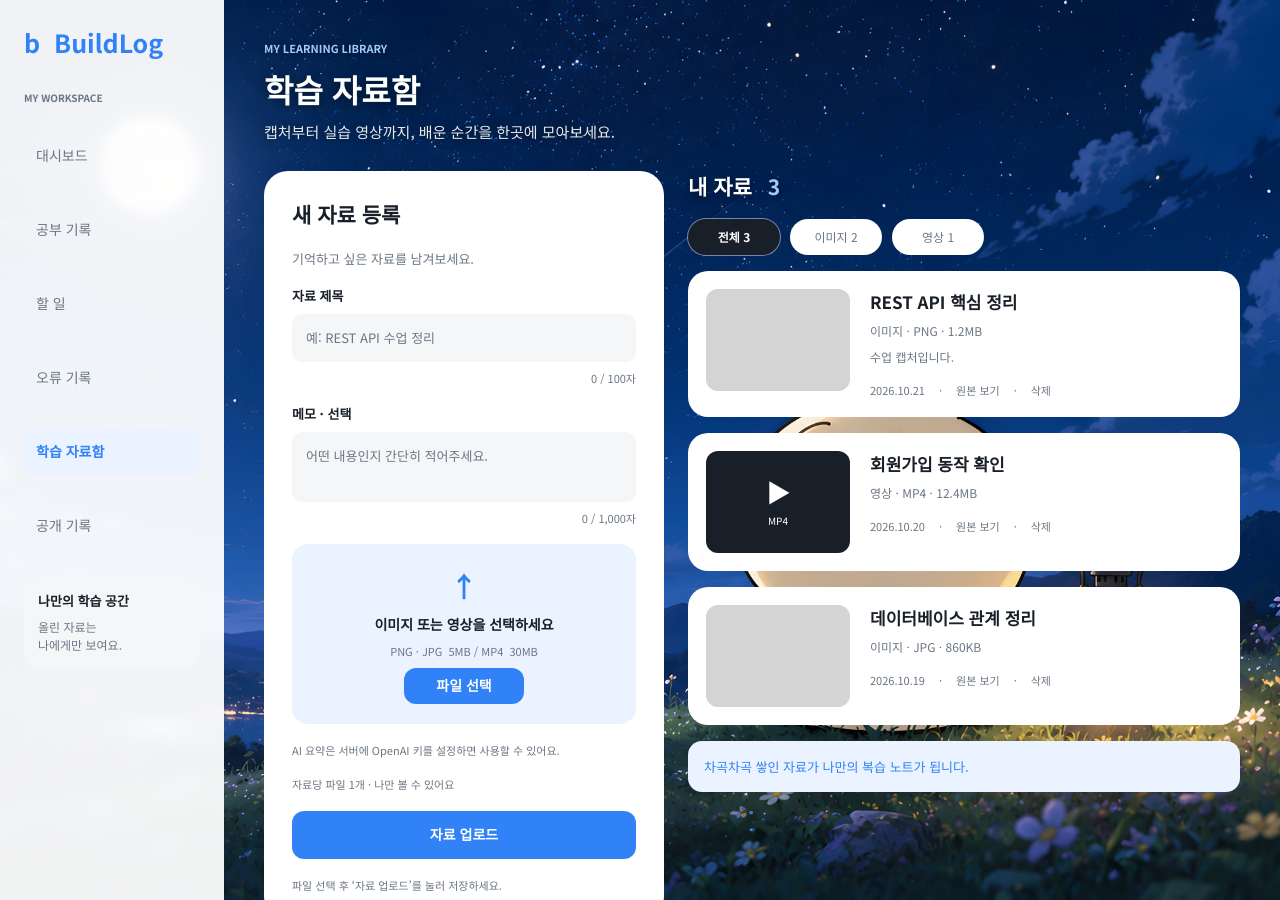
Scenario: 학습 자료함 화면 › 종류 필터로 걸러 내도 숫자는 전체 기준으로 유지된다
Expected: the heading "학습 자료함" is shown, top-left (264, 66), bottom-right (420, 112)
Expected: the heading "REST API 핵심 정리" is shown, top-left (870, 288), bottom-right (1018, 314)
Click the button "영상 1".
click(938, 236)  # box top-left (892, 218), bottom-right (984, 254)
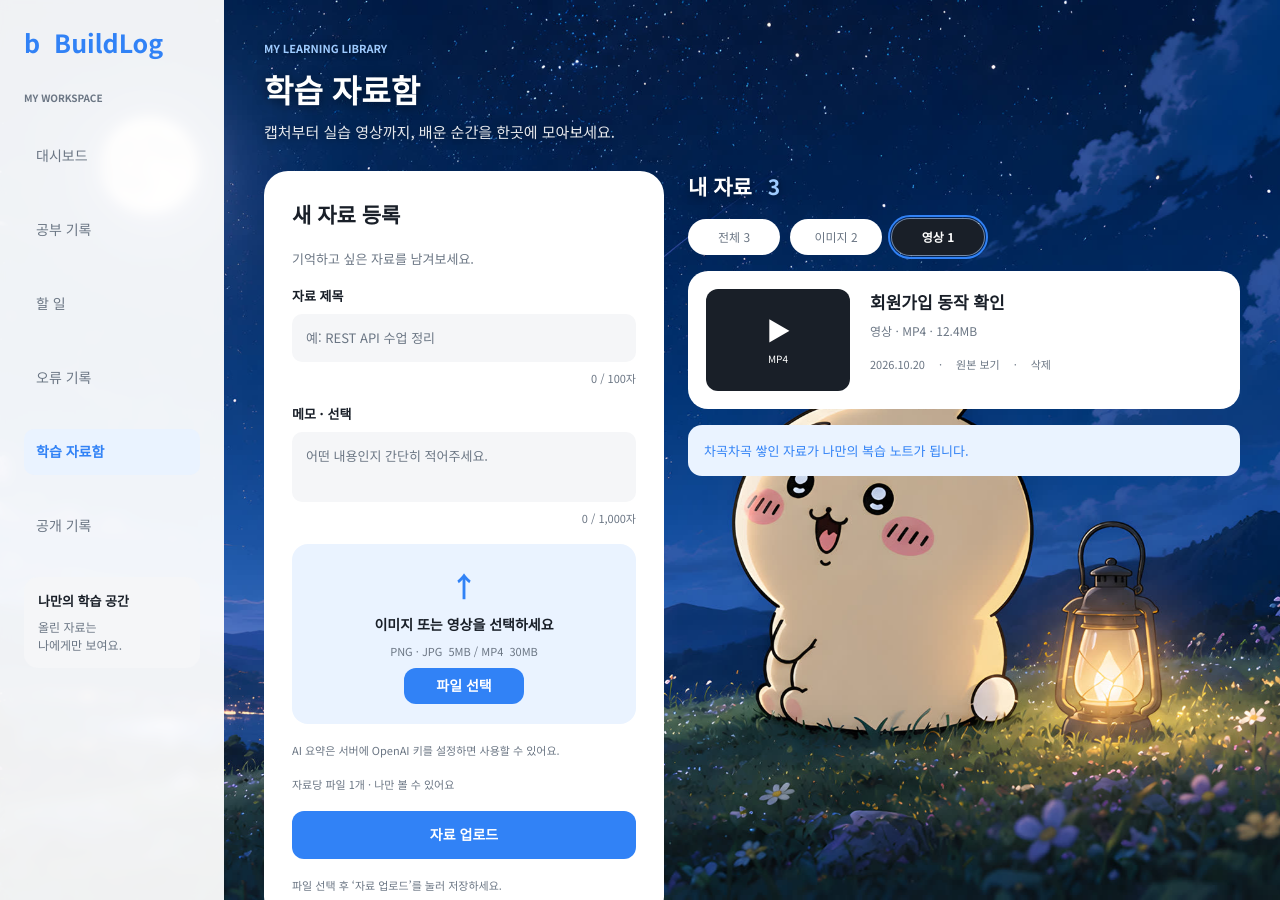
Expected: the heading "회원가입 동작 확인" is shown, top-left (870, 288), bottom-right (1005, 314)
Now the heading "REST API 핵심 정리" is gone
Click the button "이미지 2".
click(836, 236)  # box top-left (790, 218), bottom-right (882, 254)
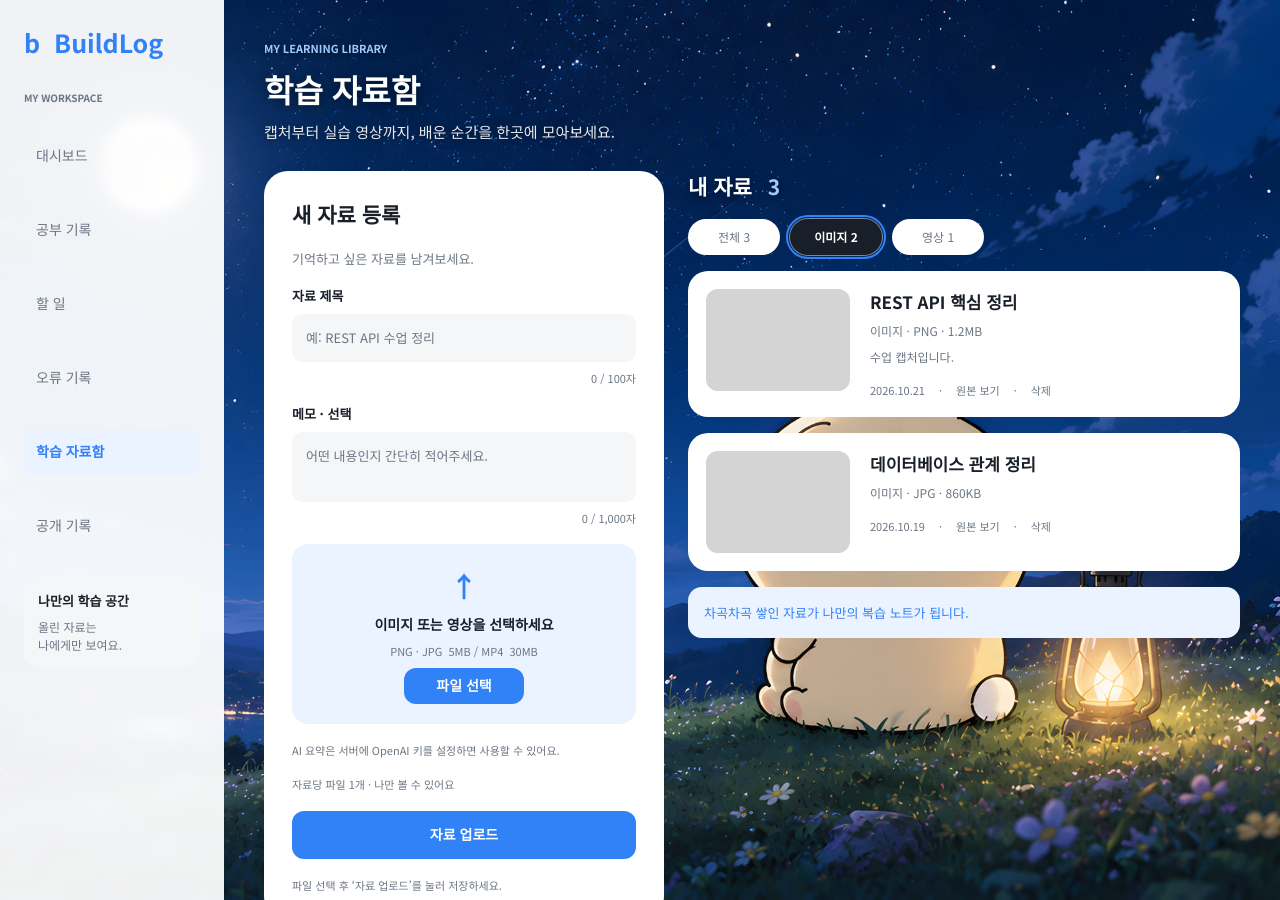
Now the heading "회원가입 동작 확인" is gone
Now the heading "데이터베이스 관계 정리" is shown, box top-left (870, 450), bottom-right (1036, 476)
